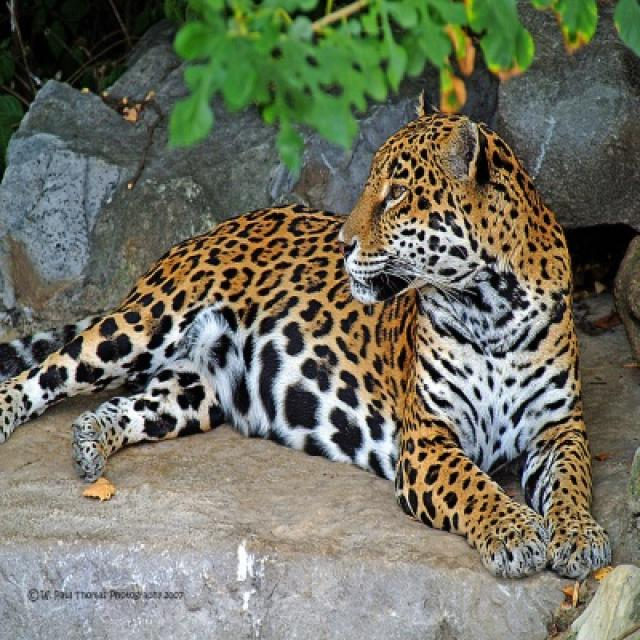Jaguar: (0, 114, 611, 584)
